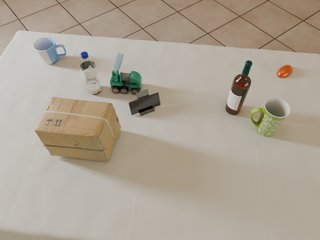bottle: (226, 61, 252, 115), (80, 52, 101, 94)
box: (35, 97, 121, 161)
cup: (250, 97, 290, 136), (33, 37, 66, 64)
mouse: (277, 65, 293, 78)
phone: (129, 93, 160, 115)
toy_car: (110, 53, 141, 94)
